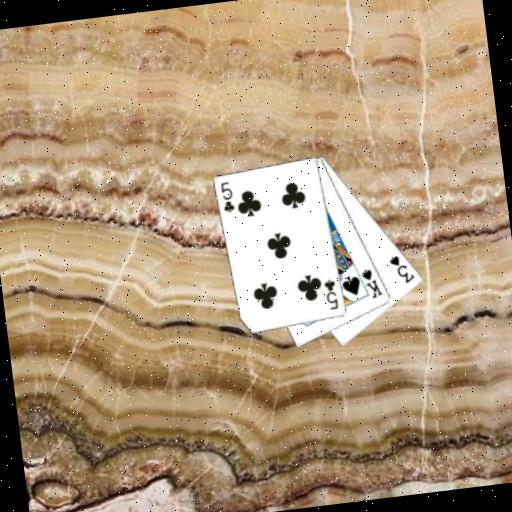3S: (386, 250, 417, 287)
5C: (320, 276, 341, 312), (218, 179, 237, 216)
KS: (358, 264, 385, 301)
